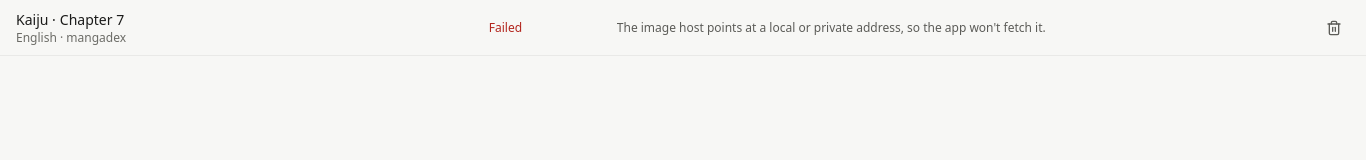
DownloadRow failure tooltip › shows the reason on hover
The width and height of the screenshot is (1366, 160).
Hover over the text "The image host points at a local or private address, so the app won't fetch it.": (831, 28) [617,20,1046,36]
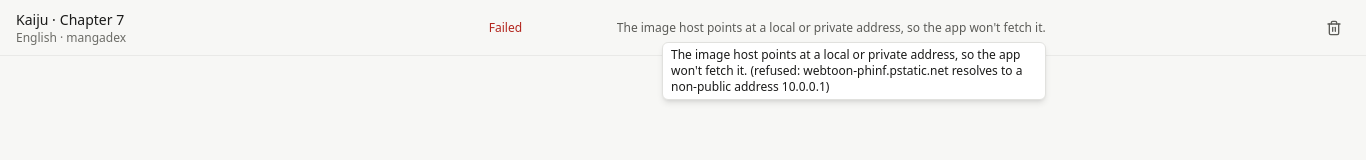
Expected: the tooltip shows "refused: webtoon-phinf.pstatic.net resolves to a non-public address 10.0.0.1", [671,46,1022,95]
